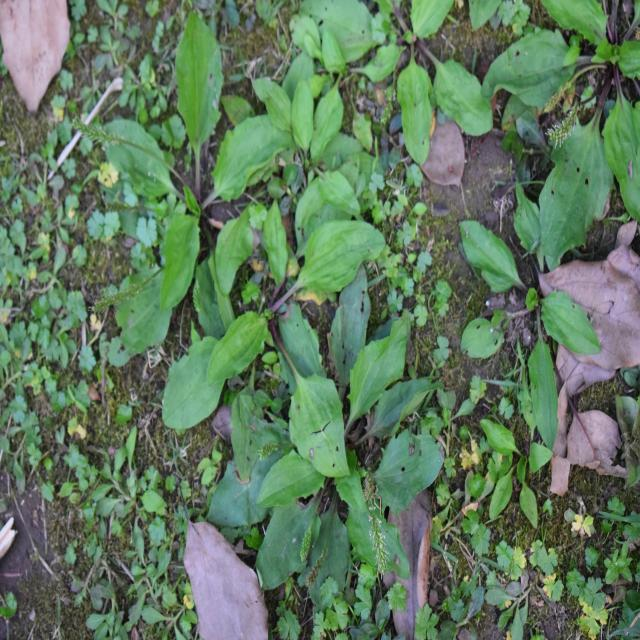plantain: (206, 340, 454, 601), (197, 208, 388, 456), (450, 191, 610, 435)
